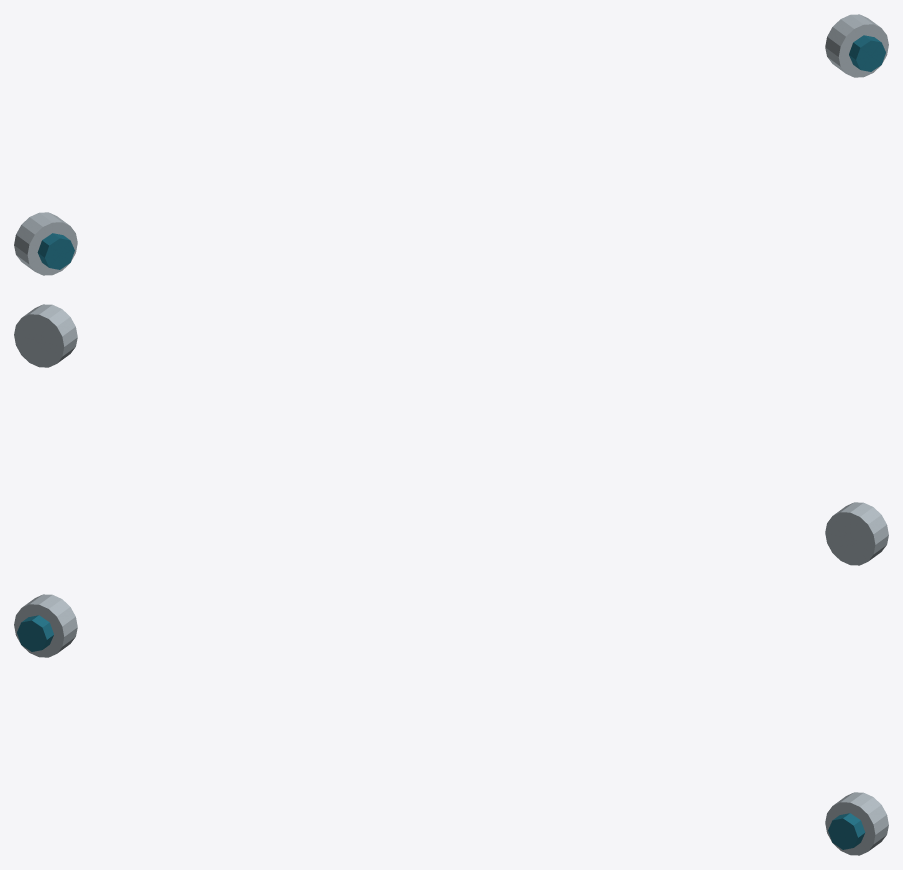
The model's file is reference_stud_earrings.gltf.
3 views of the same model, one above another, from view 1: azimuth 30°, elevation 25°; view 2: azimuth 150°, elevation 25°; view 3: azimuth 330°, elevation 25° (orthographic).
Parts seen in each view (by area): view 1: Stud Earrings; view 2: Stud Earrings; view 3: Stud Earrings.
Part boxes in pixels (box(x1,y1,x2,y2)): Stud Earrings: box(14, 14, 888, 275); Stud Earrings: box(14, 304, 888, 565); Stud Earrings: box(14, 594, 888, 855).
Bounding box in the file's own units: 0.514 × 0.03 × 0.0215.
Materials: 2 (2 with a texture image).
